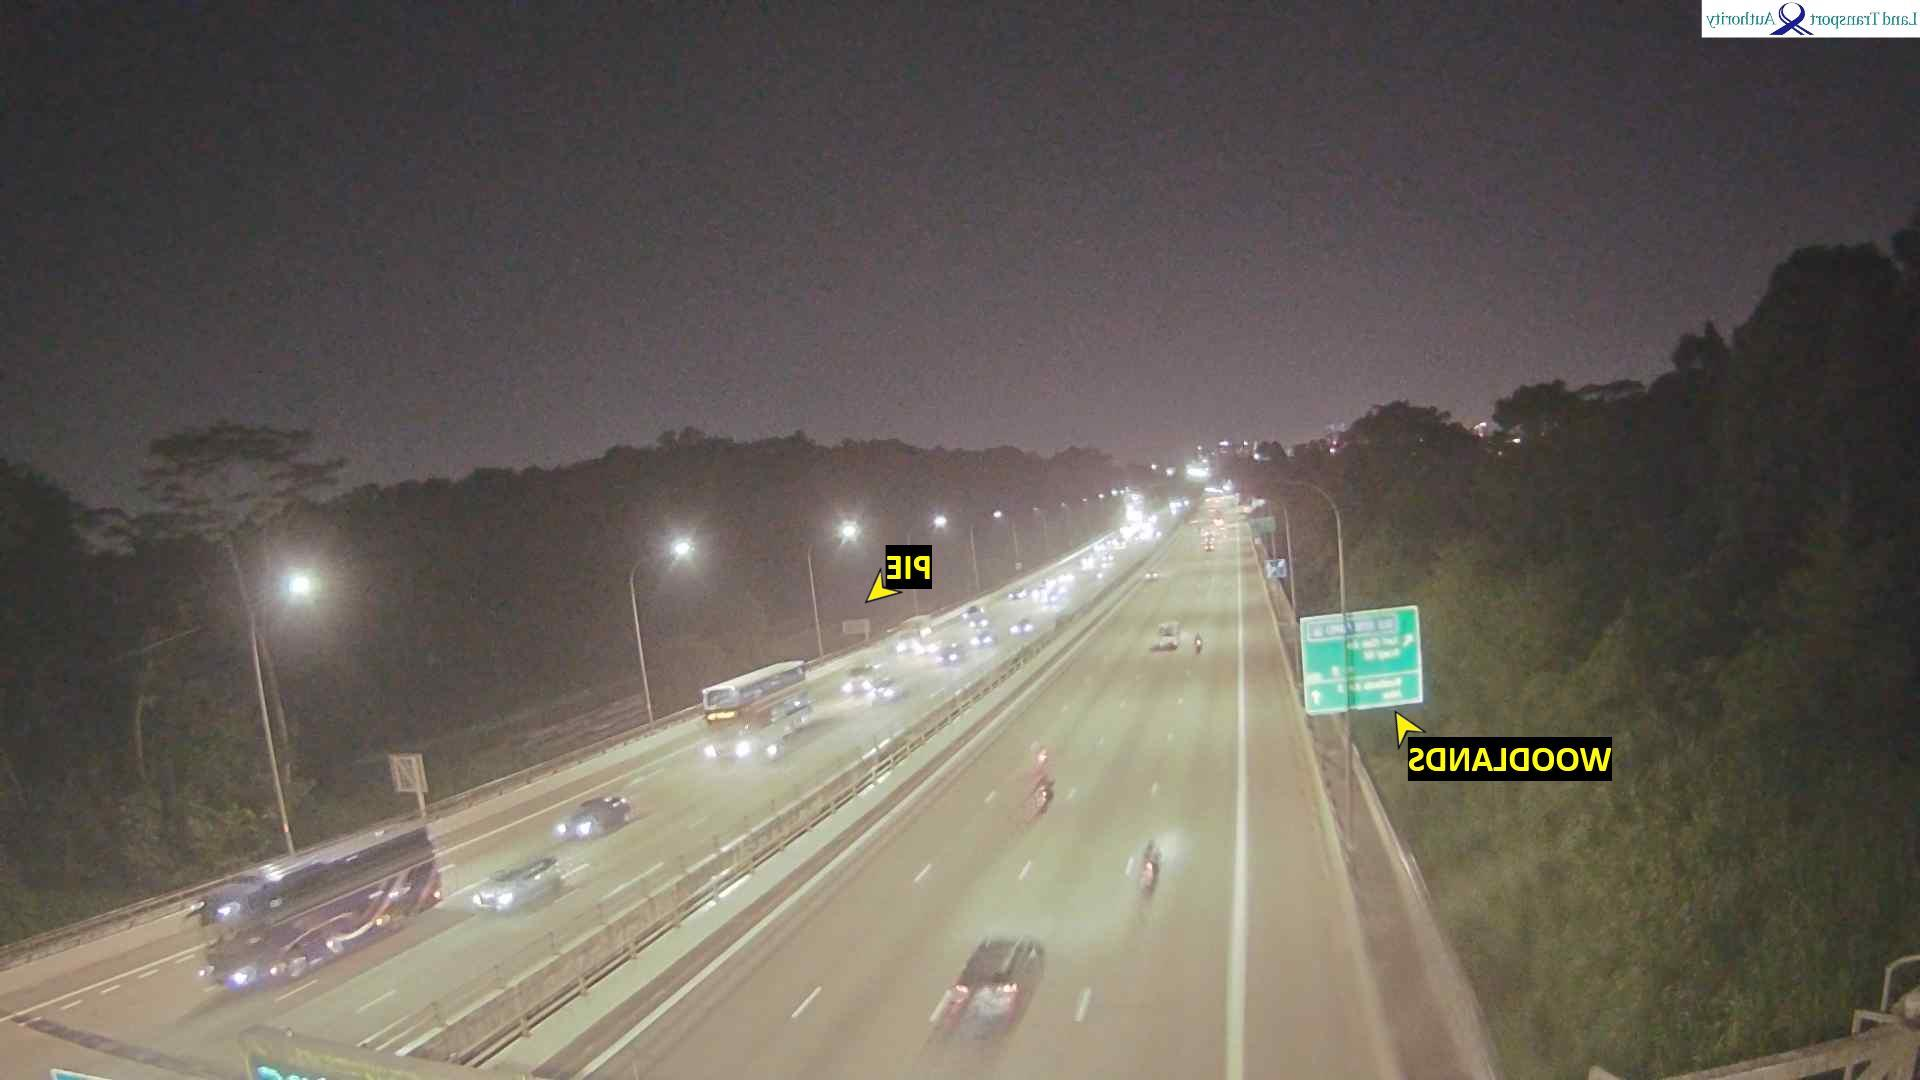incoming: (183, 887, 280, 1003), (463, 858, 533, 923), (700, 685, 752, 759), (550, 800, 608, 845)
